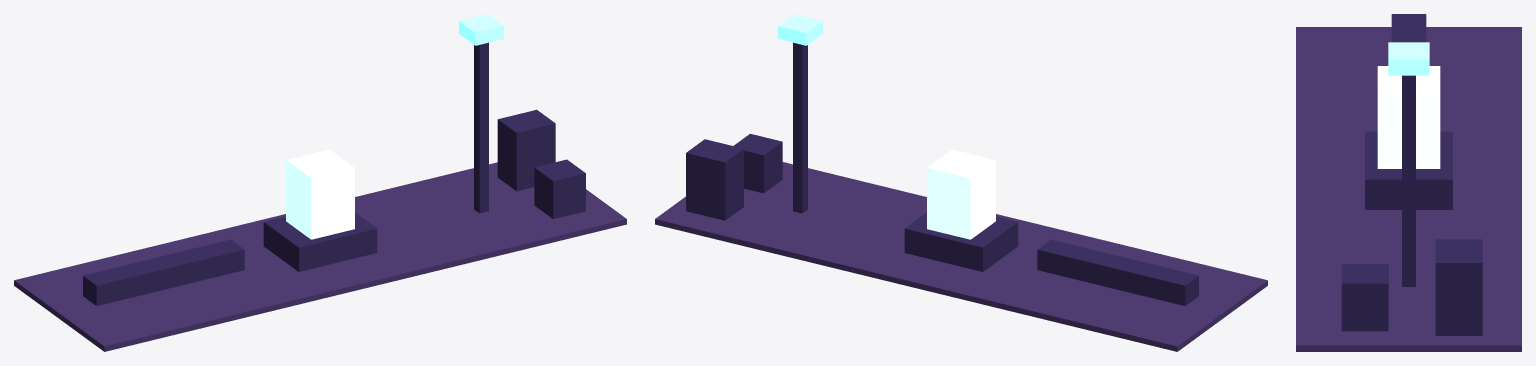
The model's file is 17_street_furniture_strip.glb.
3 views of the same model, side by side, from view 1: azimuth 30°, elevation 25°; view 2: azimuth 150°, elevation 25°; view 3: azimuth 270°, elevation 25° (orthographic). The views are drawn at different scales.
Parts seen in each view (by area): view 1: strip_0, bench_1, shrub_3, planter_2, dropbox_7, bin_6, lamp_4, lamp_head_5; view 2: strip_0, bench_1, shrub_3, dropbox_7, planter_2, lamp_4, bin_6, lamp_head_5; view 3: strip_0, shrub_3, dropbox_7, planter_2, bin_6, lamp_4, lamp_head_5, bench_1.
Boxes of the visible parts, box(x1,y1,x2,y2) form: strip_0: box(14, 162, 626, 351); bench_1: box(83, 239, 244, 305); shrub_3: box(286, 149, 354, 239); planter_2: box(263, 212, 377, 271); dropbox_7: box(497, 109, 555, 191); bin_6: box(534, 159, 585, 219); lamp_4: box(474, 42, 488, 213); lamp_head_5: box(459, 14, 504, 45); strip_0: box(655, 162, 1267, 351); bench_1: box(1037, 239, 1198, 305); shrub_3: box(927, 149, 995, 239); dropbox_7: box(686, 139, 743, 220); planter_2: box(904, 212, 1018, 271); lamp_4: box(793, 42, 807, 213); bin_6: box(734, 133, 782, 193); lamp_head_5: box(777, 14, 822, 45); strip_0: box(1296, 27, 1521, 351); shrub_3: box(1377, 66, 1440, 168); dropbox_7: box(1435, 239, 1482, 335); planter_2: box(1365, 131, 1452, 209); bin_6: box(1341, 264, 1388, 331); lamp_4: box(1402, 75, 1415, 286); lamp_head_5: box(1388, 42, 1429, 75); bench_1: box(1391, 14, 1426, 42).
Size of the model in its own units: 12 by 4.22 by 3.6.
